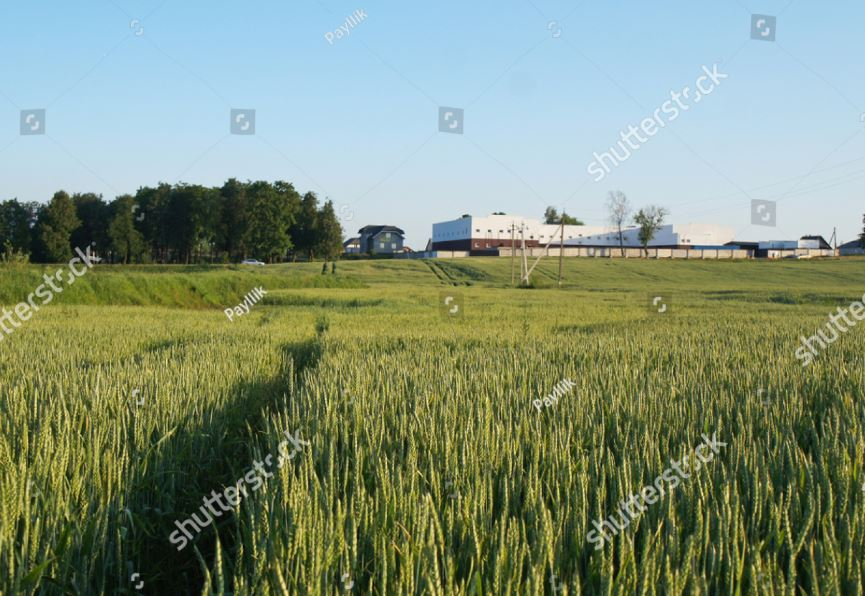Wheat: (305, 369, 820, 587)
